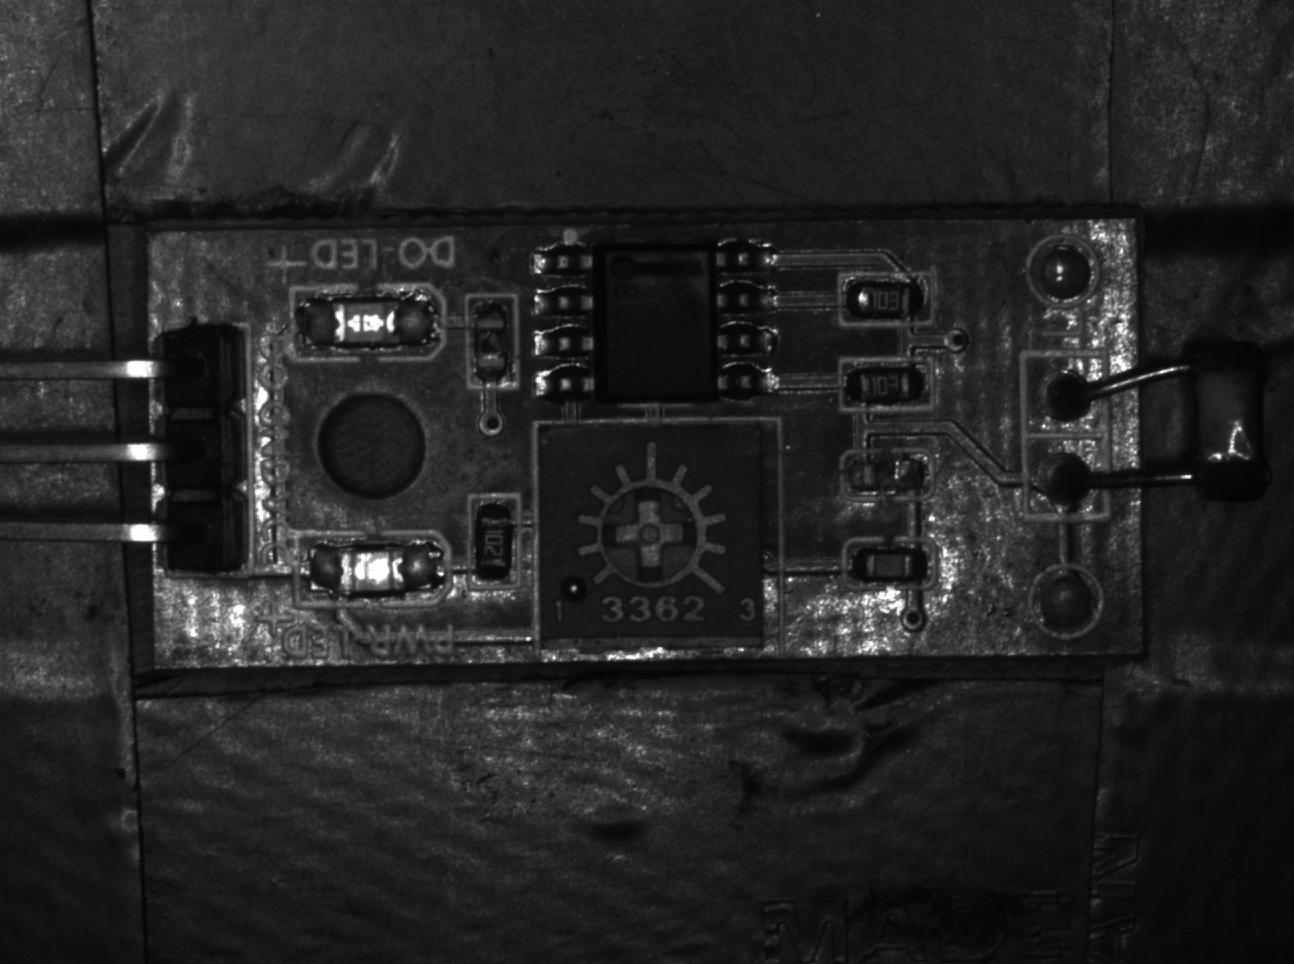miss: (840, 446, 931, 503), (464, 295, 515, 391)
ok: (838, 271, 935, 325), (844, 539, 931, 593), (843, 359, 935, 409), (471, 496, 518, 590)
